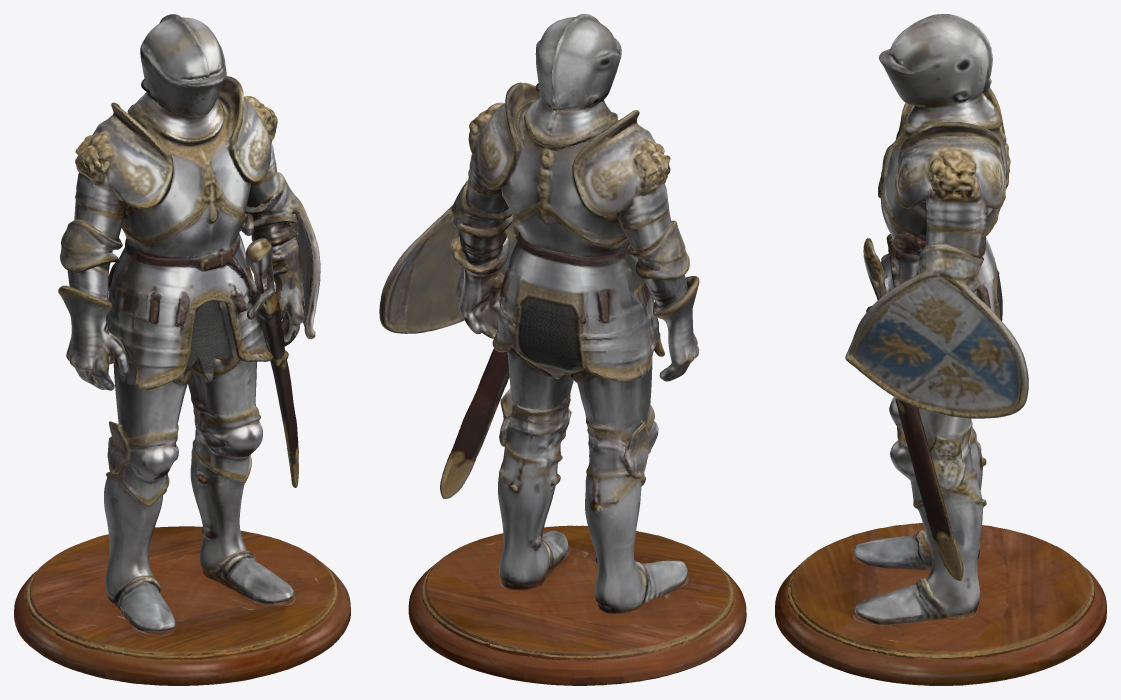
File: suit-of-armor.glb
3 renders of one model, left to right at view 1: azimuth 30°, elevation 25°; view 2: azimuth 150°, elevation 25°; view 3: azimuth 270°, elevation 25°, orthographic.
Visible parts, largest first — view 1: geometry_0; view 2: geometry_0; view 3: geometry_0.
Boxes of the visible parts, x1,y1,x2,y2 form: geometry_0: (14,14,350,685); geometry_0: (379,14,746,685); geometry_0: (775,14,1106,685).
Bounding box in the file's own units: 0.9811 × 1.85 × 0.9281.
Materials: 1 (1 with a texture image).
